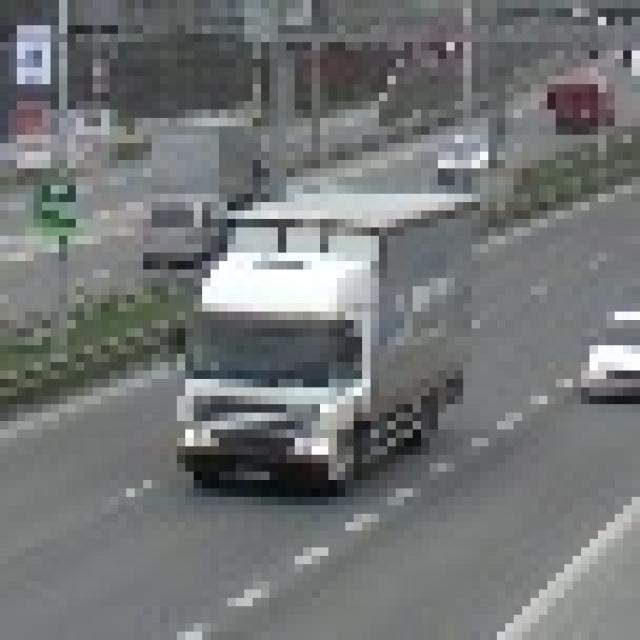truck: (160, 177, 472, 471)
